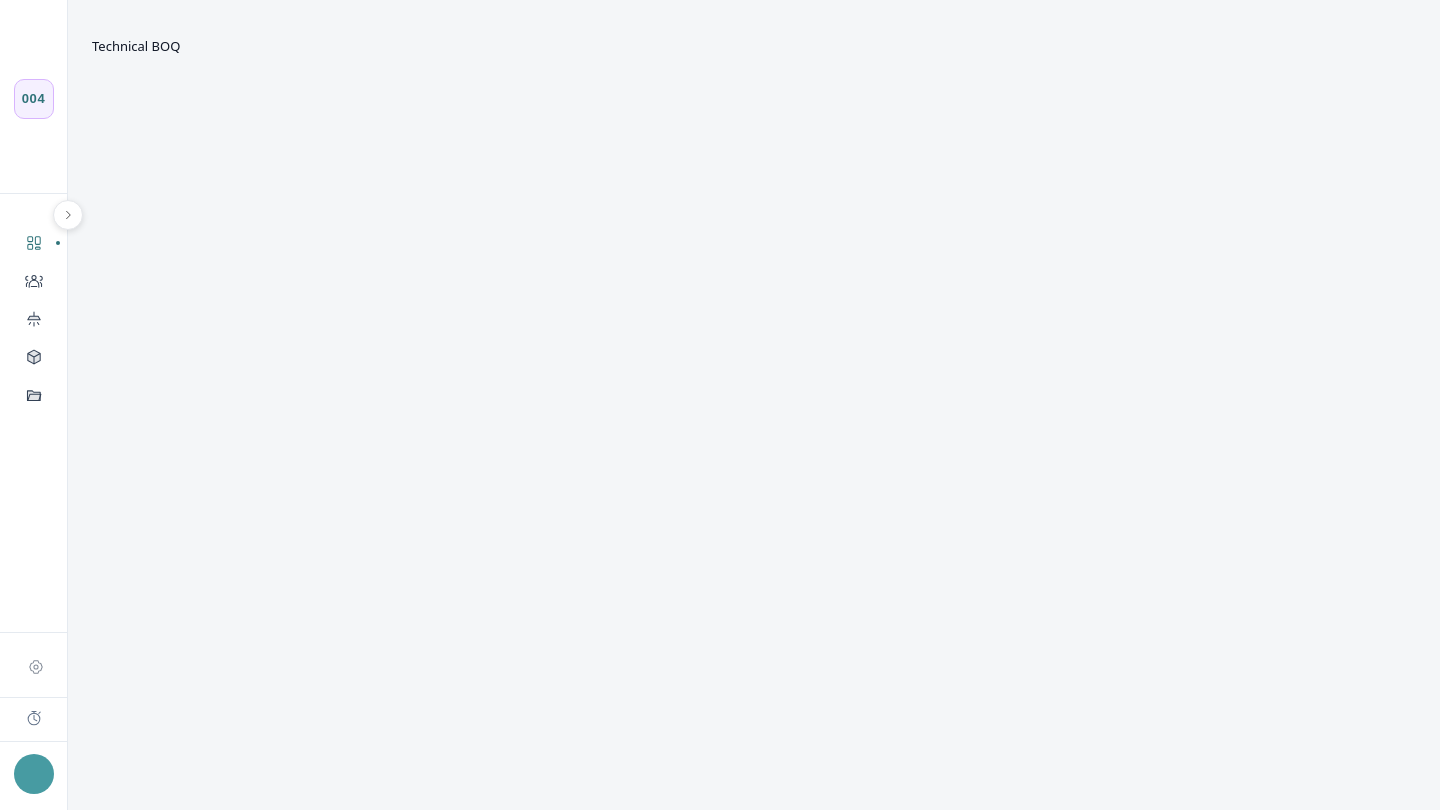
Test case: V4 Work Session shell surfaces › keeps the minimal icon anchor available in INACTIVE
The image size is (1440, 810).
Click the button named "Work Session, inactive". click: (34, 719)
box: [25, 710, 43, 728]
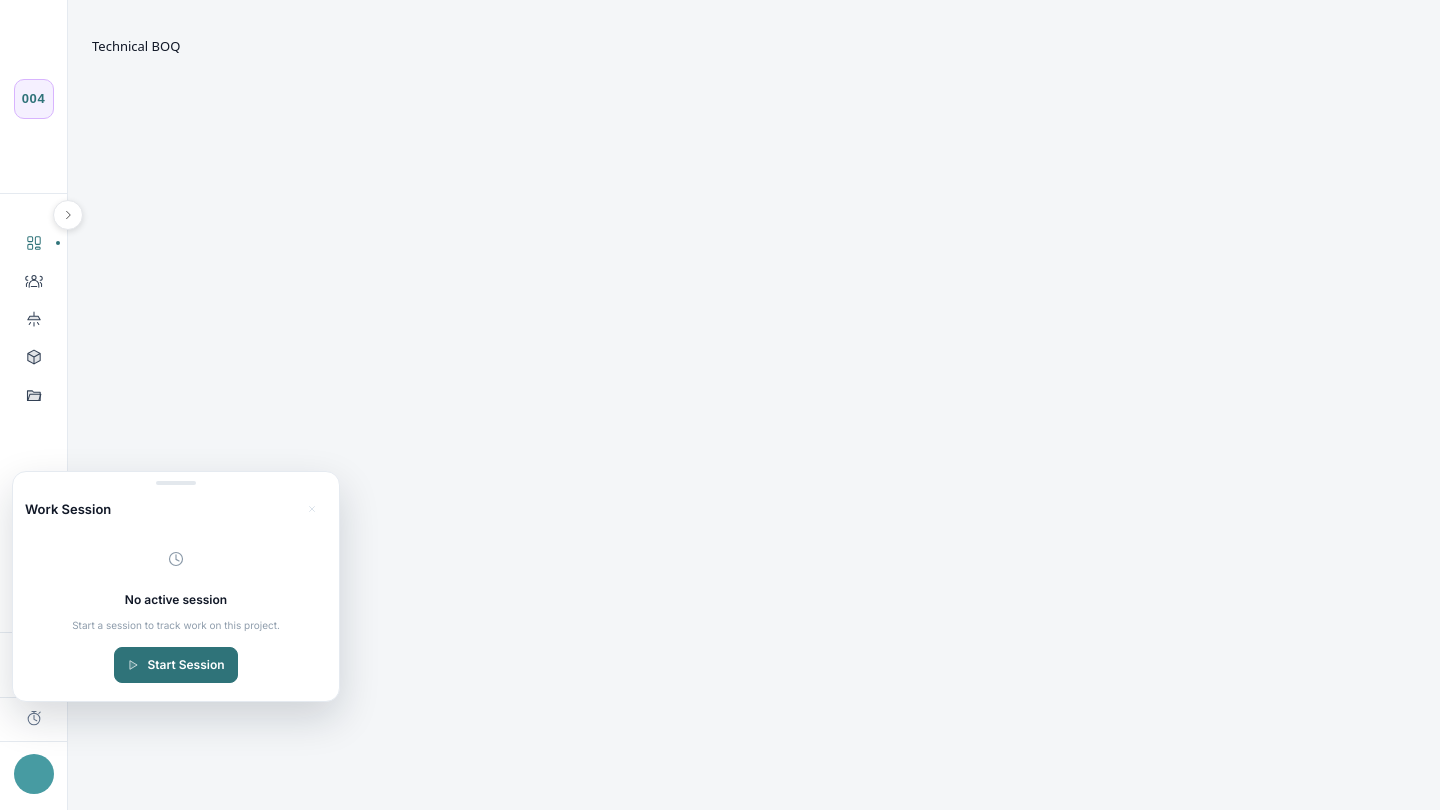
Check: the dialog "Work Session" is shown, box [12, 470, 340, 702]
